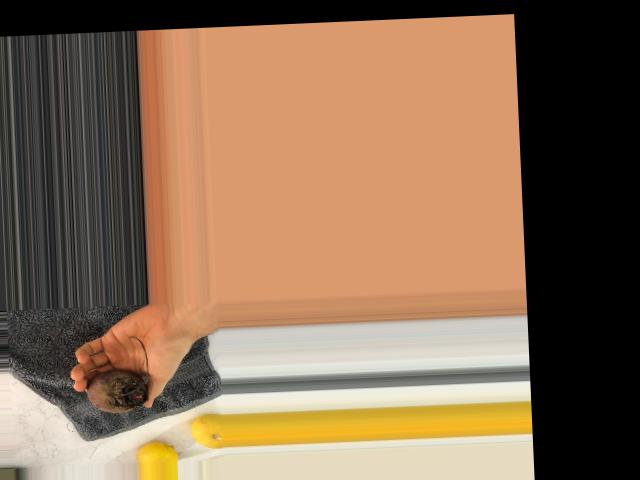beet: (83, 335, 148, 414)
